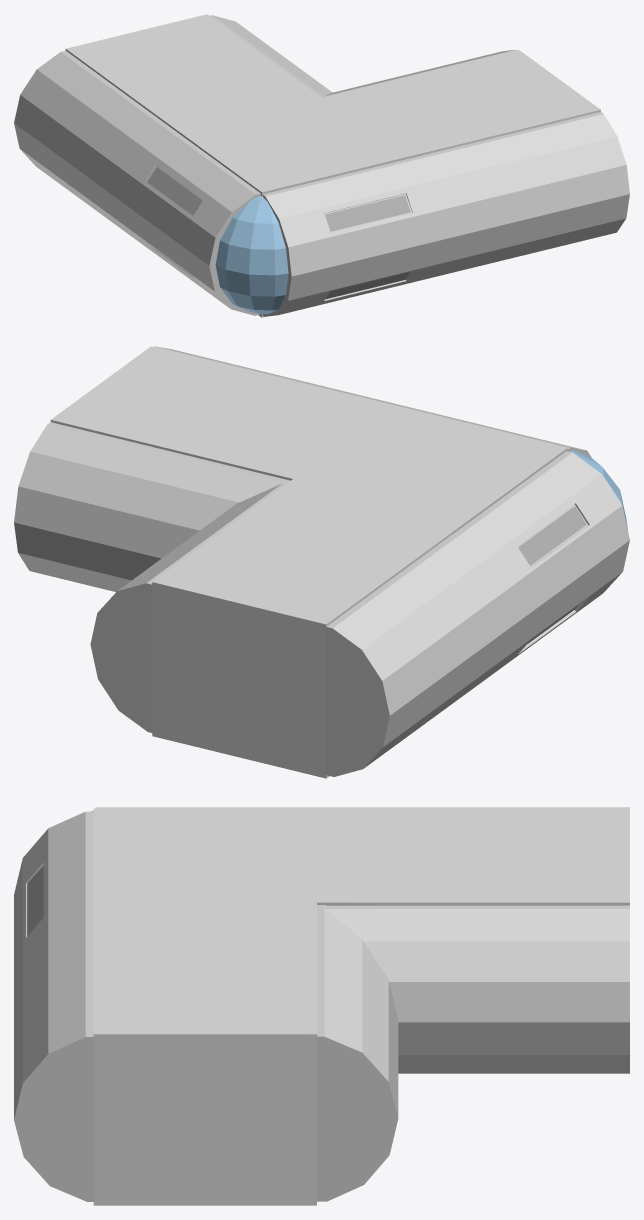
3 renders of one model, top to bottom at view 1: azimuth 30°, elevation 25°; view 2: azimuth 150°, elevation 25°; view 3: azimuth 270°, elevation 25°, orthographic. The views are drawn at different scales.
Visible parts, largest first — view 1: Sphere_2; view 2: Sphere_2; view 3: Sphere_2.
Part boxes in pixels (<box>): Sphere_2: <box>14,14,629,317</box>; Sphere_2: <box>14,346,629,778</box>; Sphere_2: <box>14,807,629,1205</box>.
Size of the model in its own units: 946 by 290 by 945.
